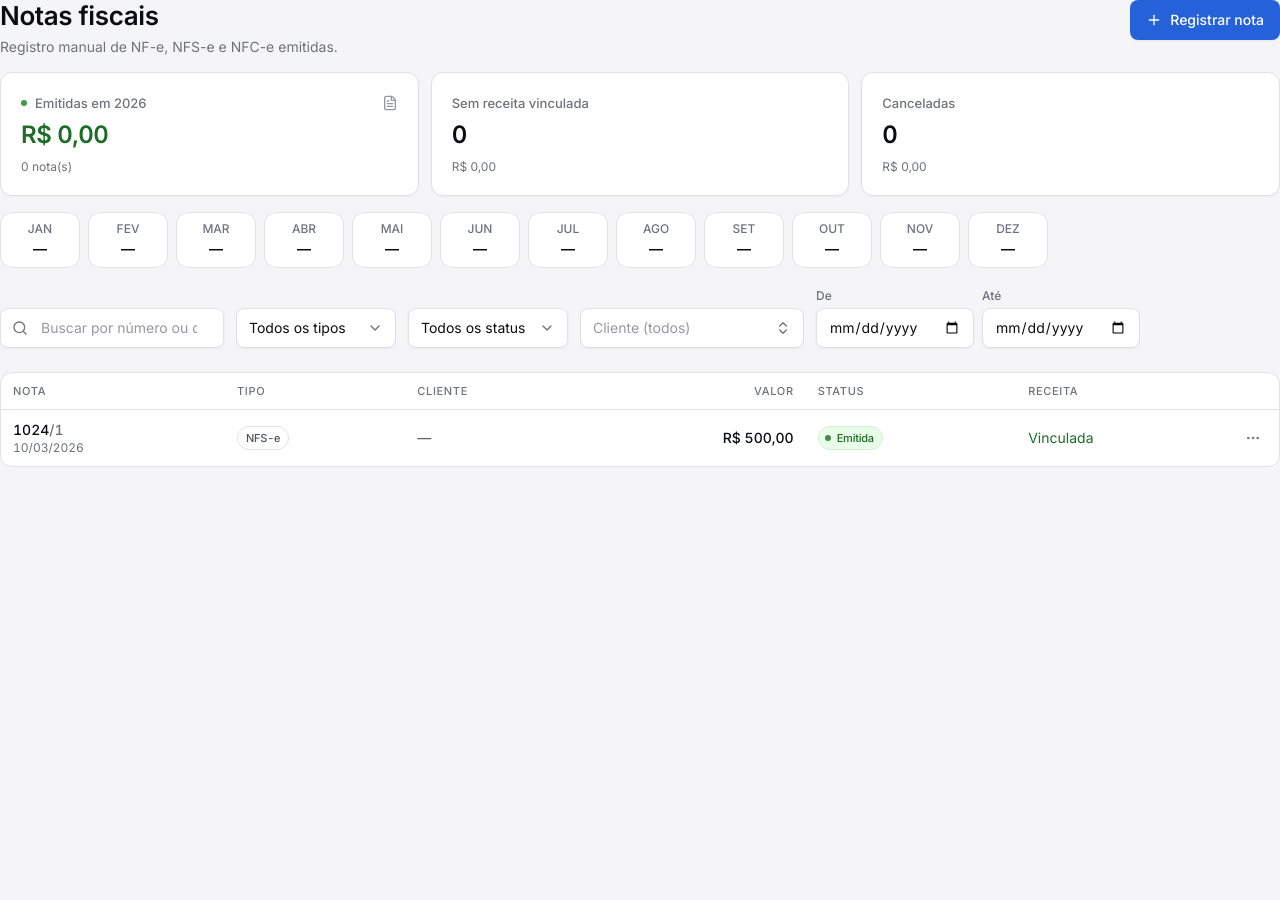
Test: NotasListaPage › abre o detalhe da nota ao clicar na linha
Click the text "1024".
click(38, 429)  # box x1=13 y1=421 x2=64 y2=438
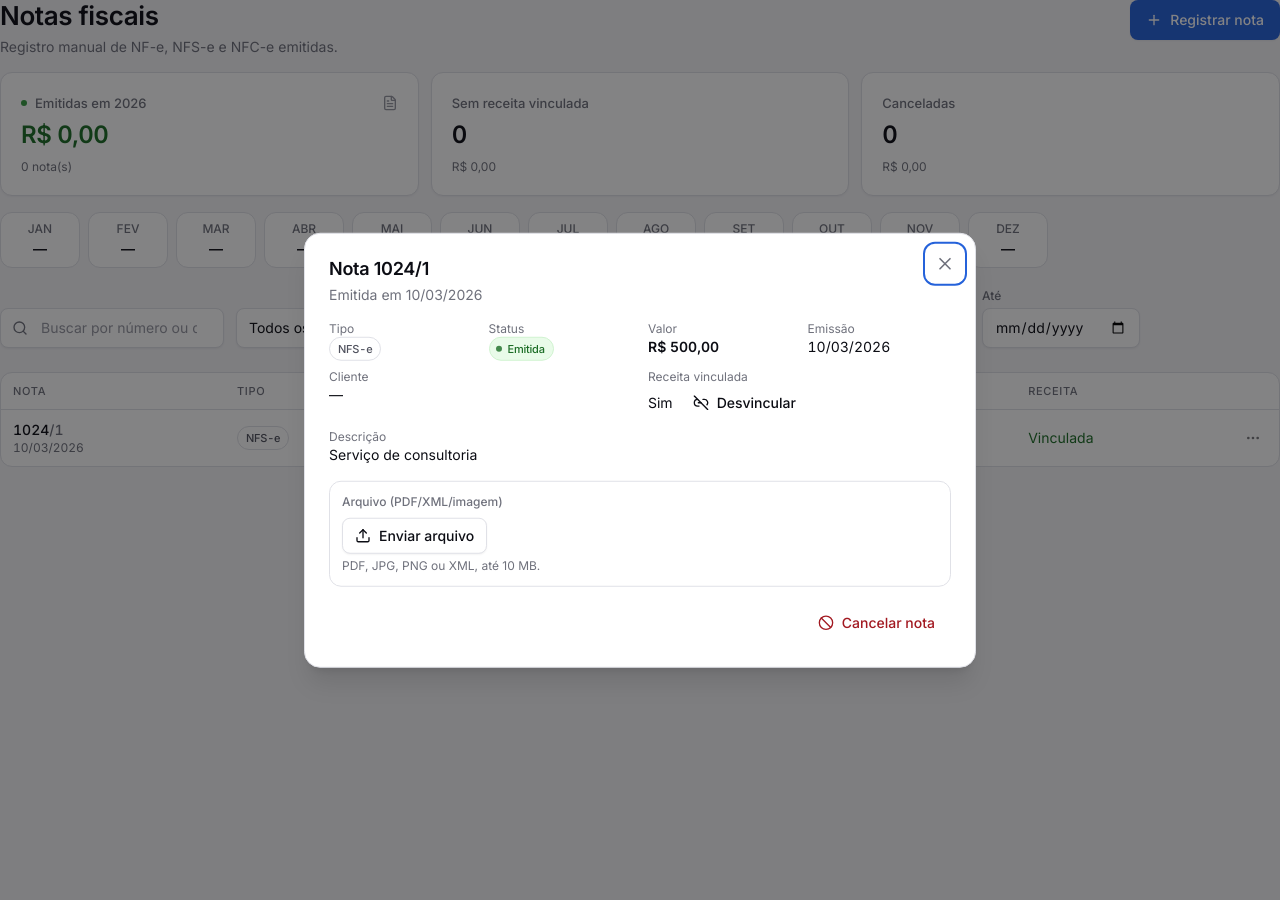
expect the heading "Nota 1024/1" is shown: met, box x1=329 y1=258 x2=429 y2=279
